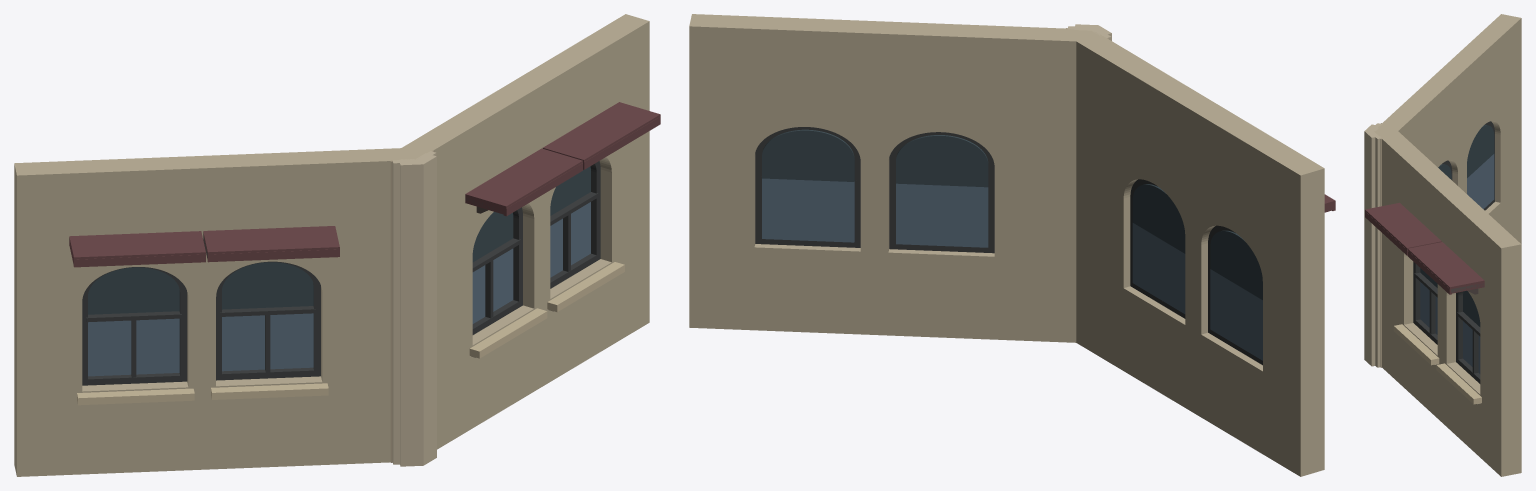
File: hongkou-kakuta-apartments-corner-arched-windows-web.glb
3 renders of one model, left to right at view 1: azimuth 30°, elevation 25°; view 2: azimuth 150°, elevation 25°; view 3: azimuth 270°, elevation 25°, orthographic. The views are drawn at different scales.
Parts seen in each view (by area): view 1: 角田公寓转角两组双联拱窗; view 2: 角田公寓转角两组双联拱窗; view 3: 角田公寓转角两组双联拱窗.
Boxes of the visible parts, x1=… form: 角田公寓转角两组双联拱窗: x1=14, y1=14, x2=660, y2=476; 角田公寓转角两组双联拱窗: x1=689, y1=14, x2=1335, y2=476; 角田公寓转角两组双联拱窗: x1=1364, y1=14, x2=1521, y2=476.
Bounding box in the file's own units: 6.09 × 2.77 × 1.72.
